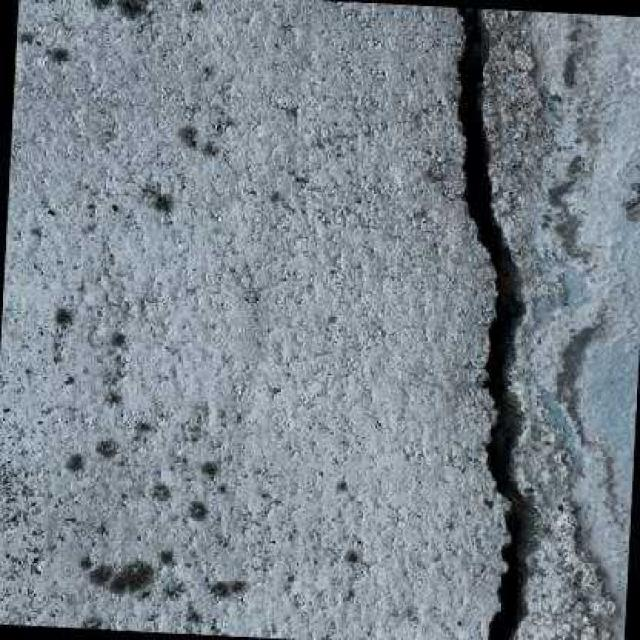D00: (452, 7, 529, 640)
